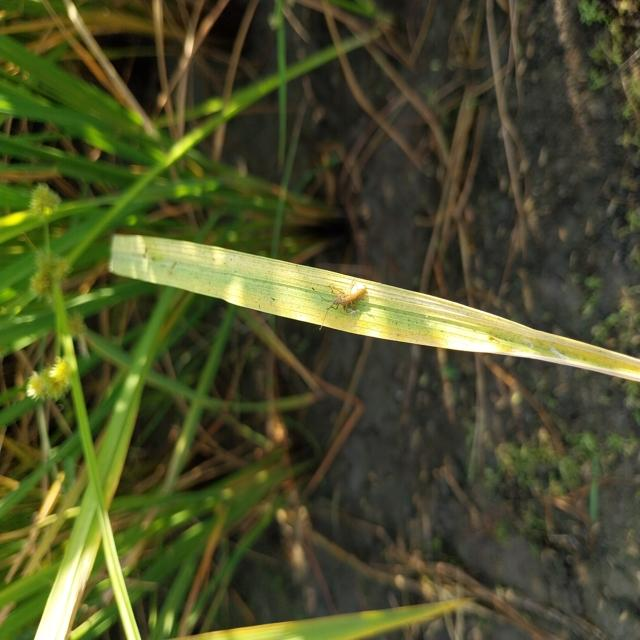healthy: (315, 267, 376, 331)
